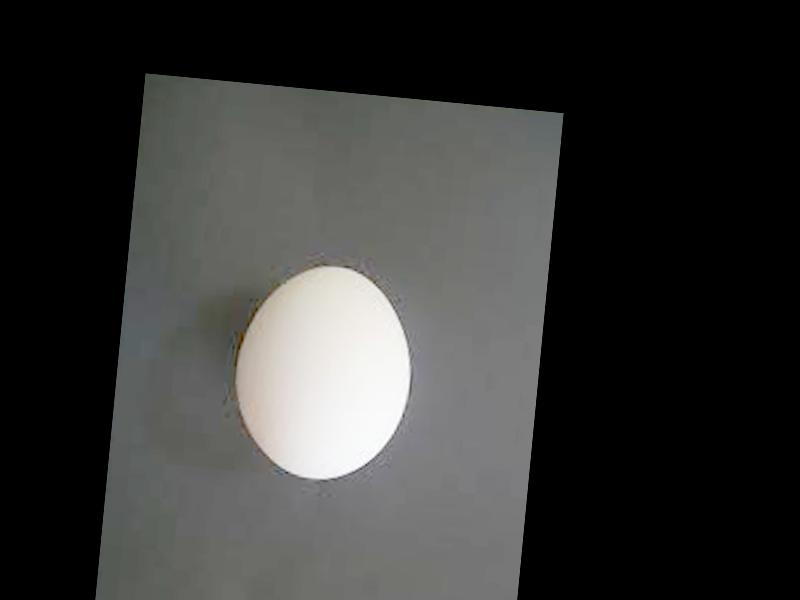Eggs: (229, 256, 419, 481)
